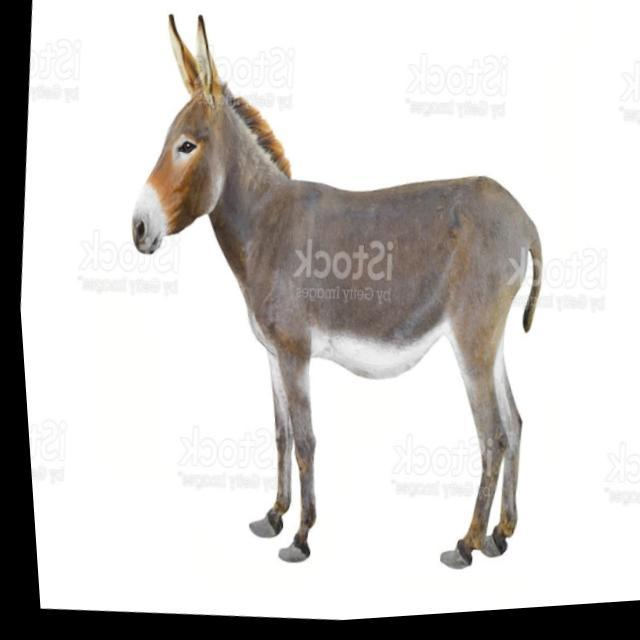Donkey: (43, 0, 595, 609)
